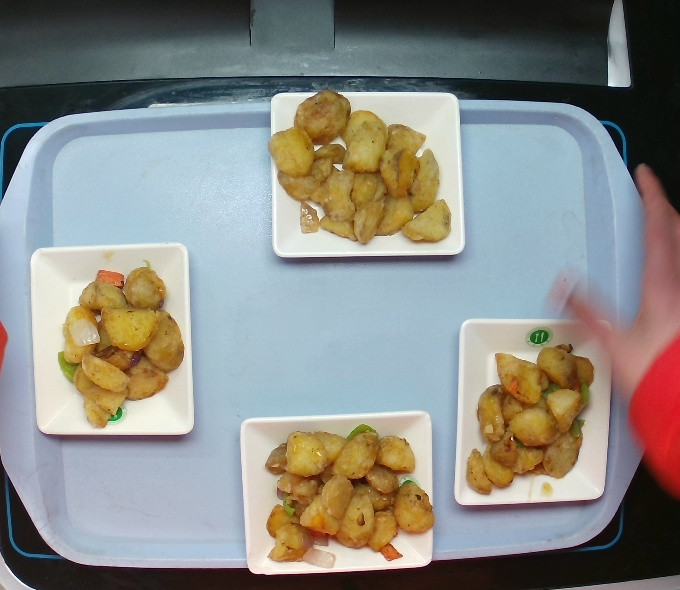wcq-TuDouZai: (267, 67, 455, 264), (455, 322, 605, 512), (256, 423, 429, 570), (59, 258, 183, 427)
